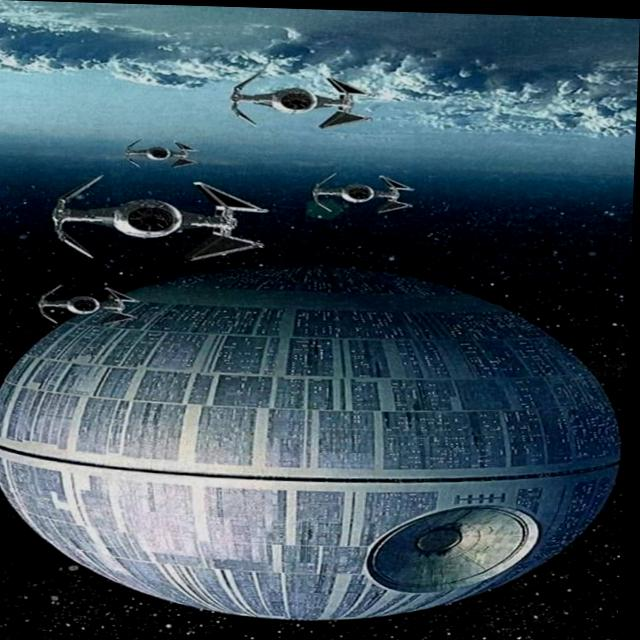deathStar: (0, 246, 625, 627)
